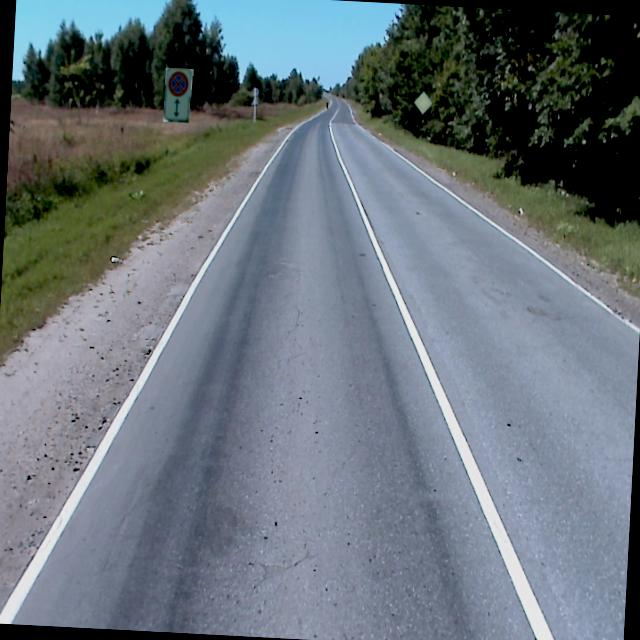road: (0, 96, 639, 640)
